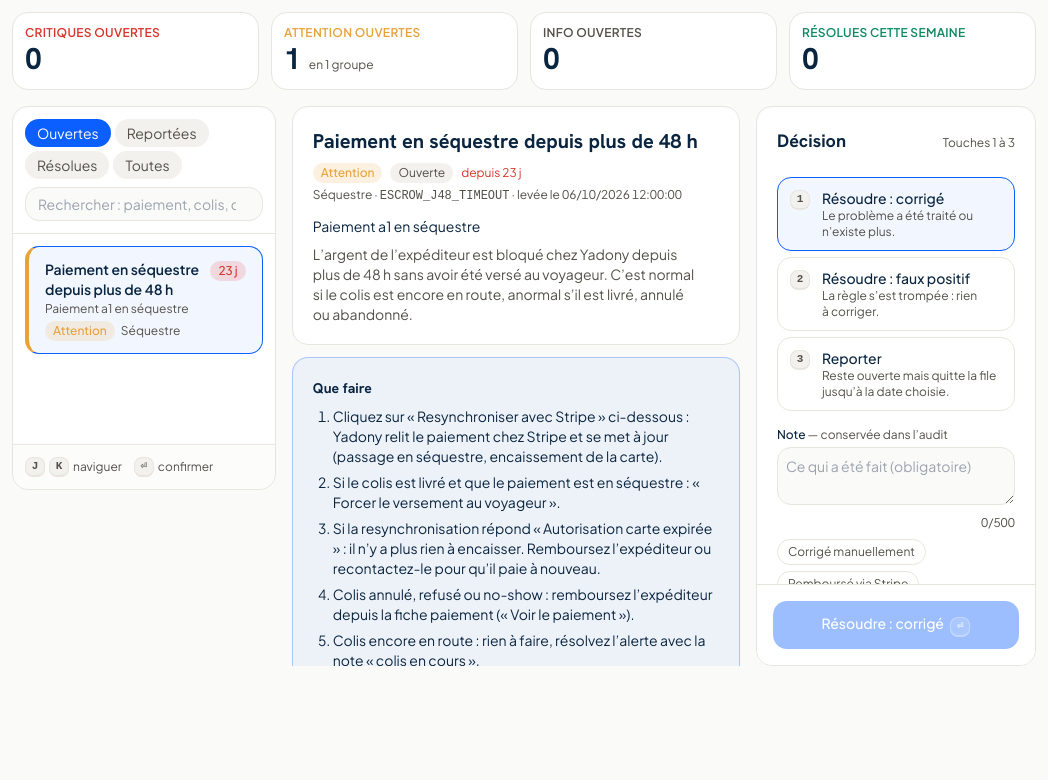
Scenario: pages/alertes › dernière alerte résolue : le dossier se vide et ?open est retiré
This screenshot has width=1048, height=780.
Type "Corrigé à la main" into the text box with test id "alert-note" at [896, 476], box [777,447,1015,505]
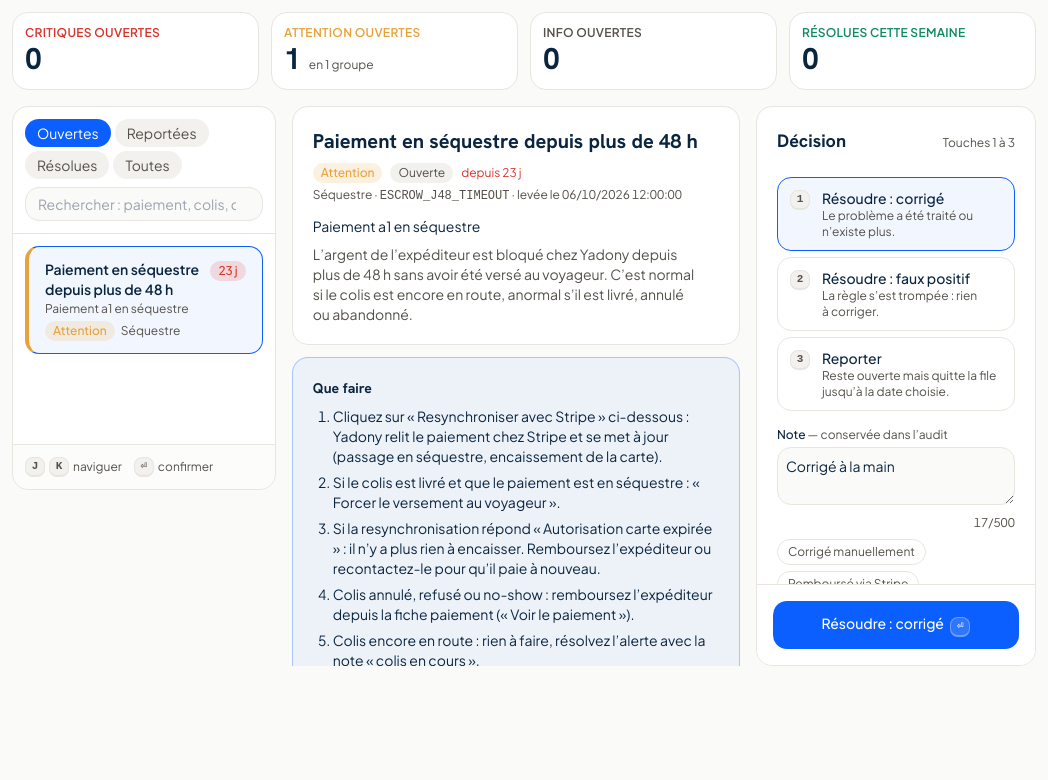
Click the button with test id "alert-confirm" at [896, 625], box [773,601,1019,649]
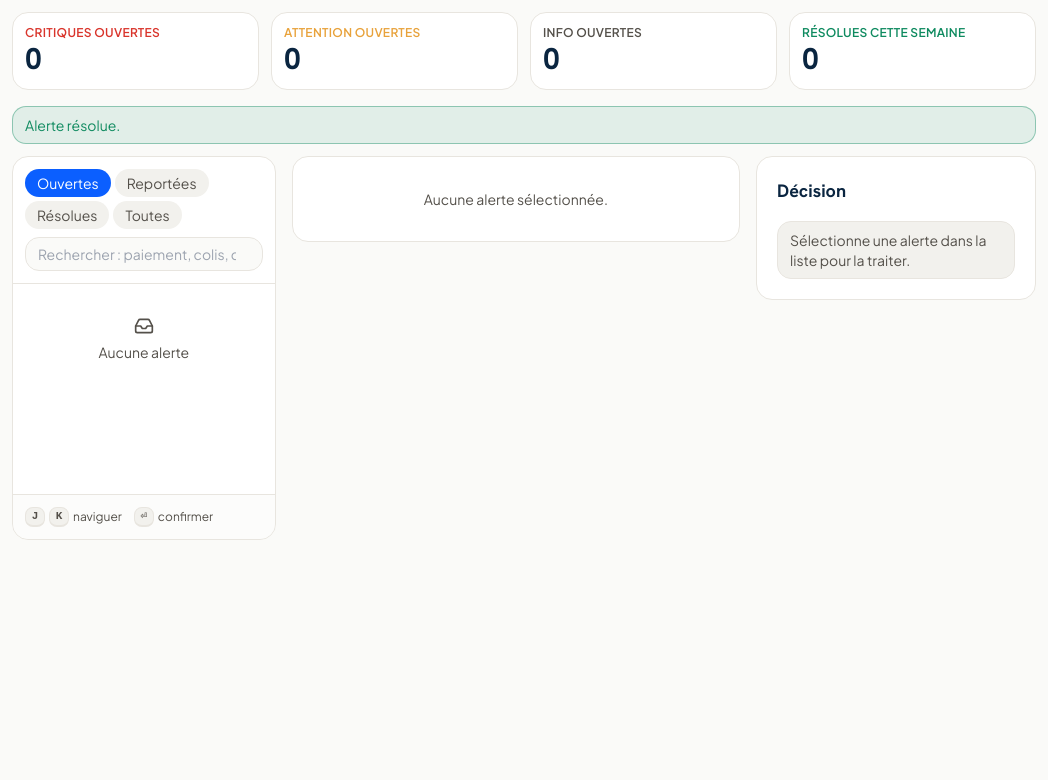
Check: the text "Aucune alerte sélectionnée." is shown, box [292,156,740,242]
